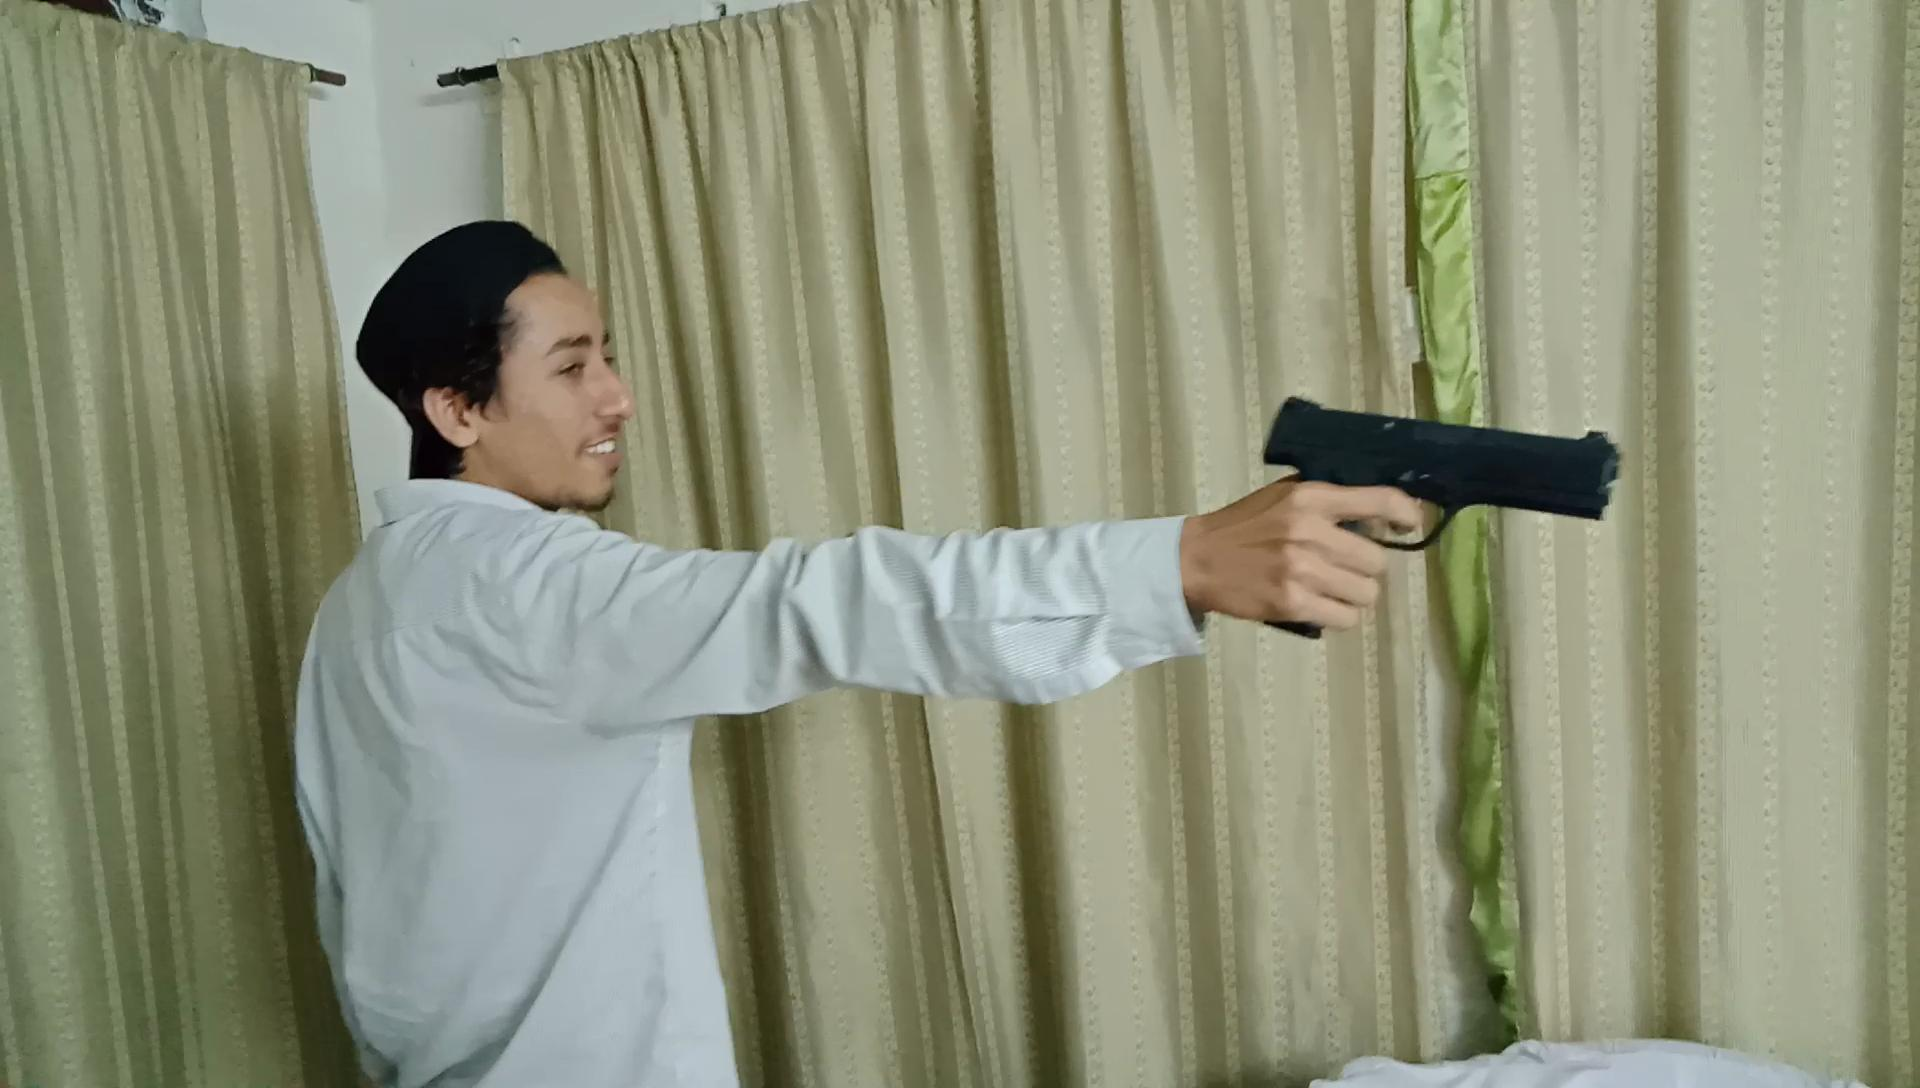criminal: (293, 214, 1626, 1088)
weapon: (1241, 393, 1629, 649)
